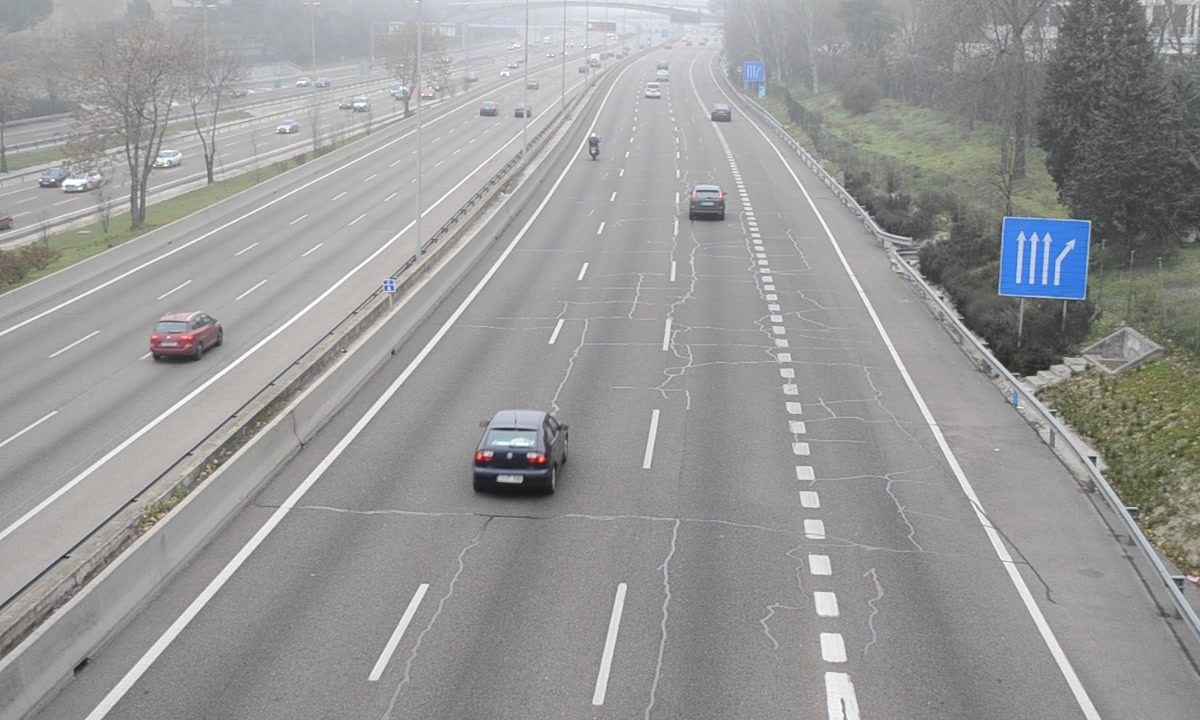car: (472, 410, 570, 496), (688, 185, 726, 223), (710, 104, 732, 122)
motorcycle: (586, 133, 600, 166)
